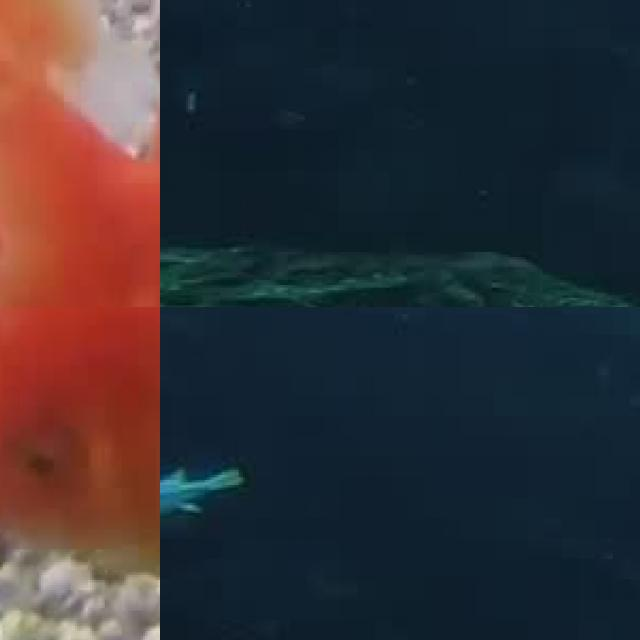fish: (0, 307, 160, 640), (0, 0, 160, 307)
